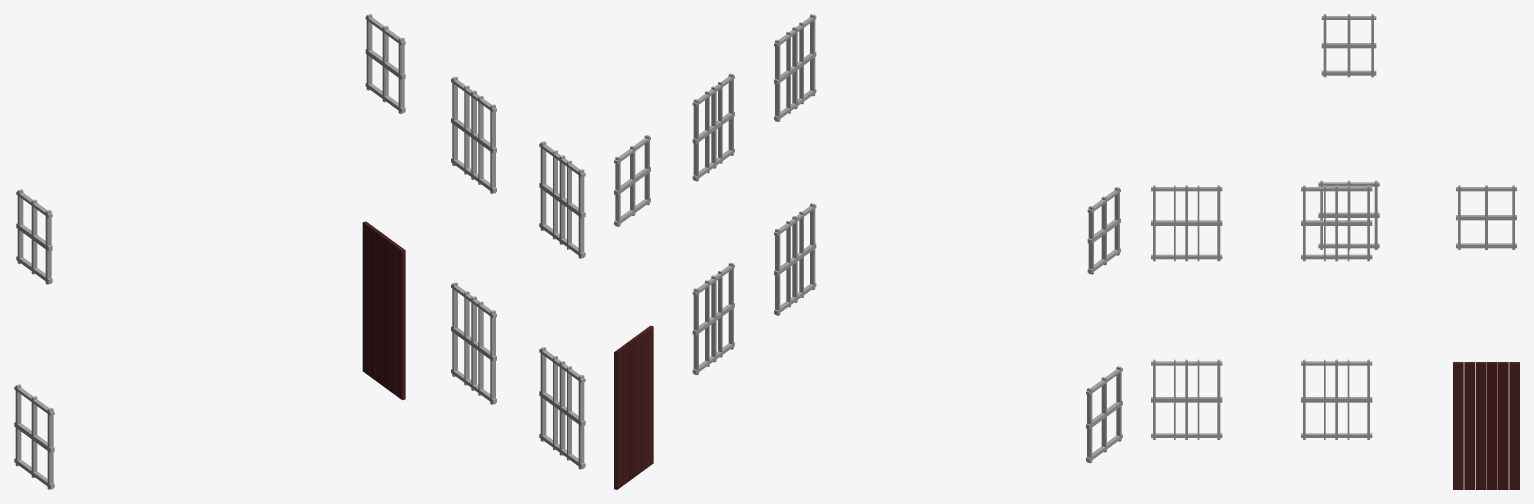
Rendered from SM_Bld_022_Wood.glb.
3 renders of one model, left to right at view 1: azimuth 30°, elevation 25°; view 2: azimuth 150°, elevation 25°; view 3: azimuth 270°, elevation 25°, orthographic. The views are drawn at different scales.
Parts seen in each view (by area): view 1: SM_Bld_022_Wood; view 2: SM_Bld_022_Wood; view 3: SM_Bld_022_Wood.
Part boxes in pixels (<box>): SM_Bld_022_Wood: <box>14,14,585,489</box>; SM_Bld_022_Wood: <box>614,14,1122,489</box>; SM_Bld_022_Wood: <box>1151,14,1519,489</box>.
Bounding box in the file's own units: 6.28 × 4.92 × 5.42.
